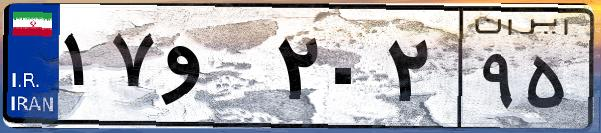0: (330, 28, 385, 110)
1: (57, 26, 110, 100)
2: (270, 28, 330, 110), (385, 28, 445, 110)
5: (525, 38, 570, 115)
7: (110, 28, 158, 98)
9: (475, 38, 525, 113)
و: (158, 20, 270, 120)
